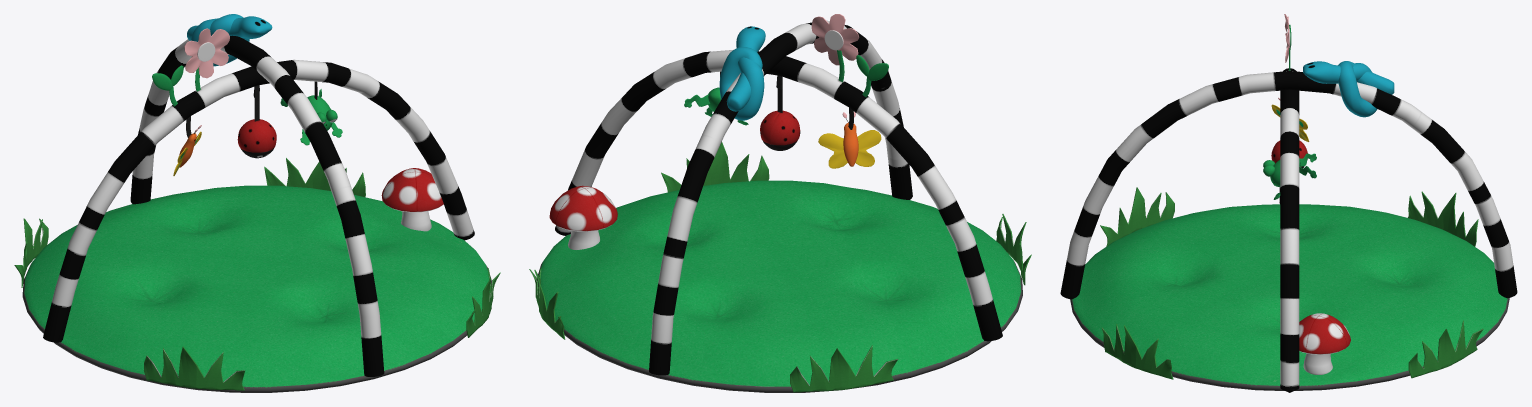
The model's file is MEGA_PACK_kid__kid-klappa_frame.glb.
3 views of the same model, side by side, from view 1: azimuth 30°, elevation 25°; view 2: azimuth 150°, elevation 25°; view 3: azimuth 270°, elevation 25° (orthographic). The views are drawn at different scales.
Parts seen in each view (by area): view 1: kid-klappa_frame; view 2: kid-klappa_frame; view 3: kid-klappa_frame.
Part boxes in pixels (x1,y1,x2,y2): kid-klappa_frame: (14,14,500,392); kid-klappa_frame: (529,14,1031,392); kid-klappa_frame: (1060,14,1517,392).
Size of the model in its own units: 0.8818 by 0.5617 by 0.8685.
Materials: 1 (1 with a texture image).
